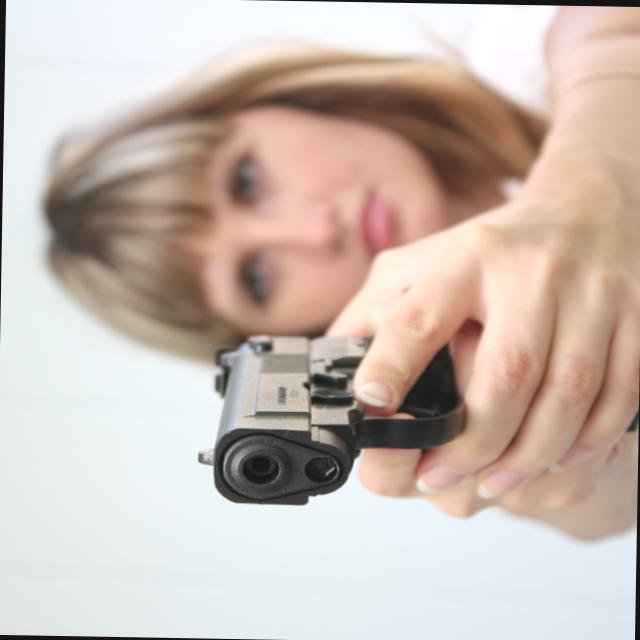handgun: (186, 294, 487, 510)
